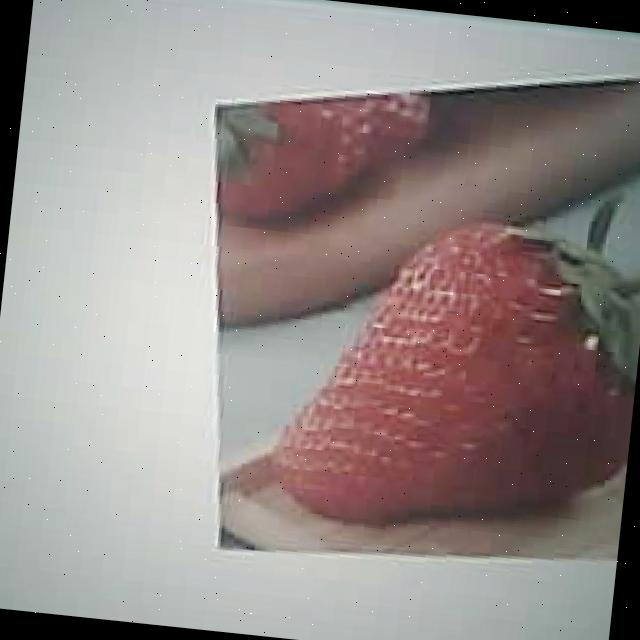strawberry: (266, 202, 640, 536)
